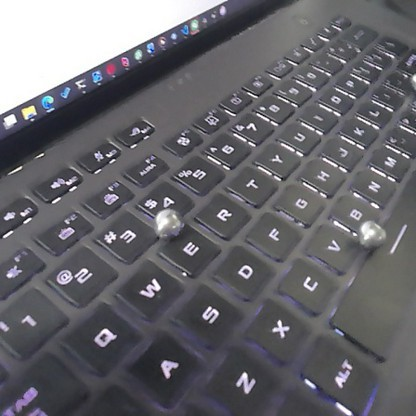ironball: (354, 214, 393, 252), (150, 205, 187, 242), (406, 67, 414, 92)
